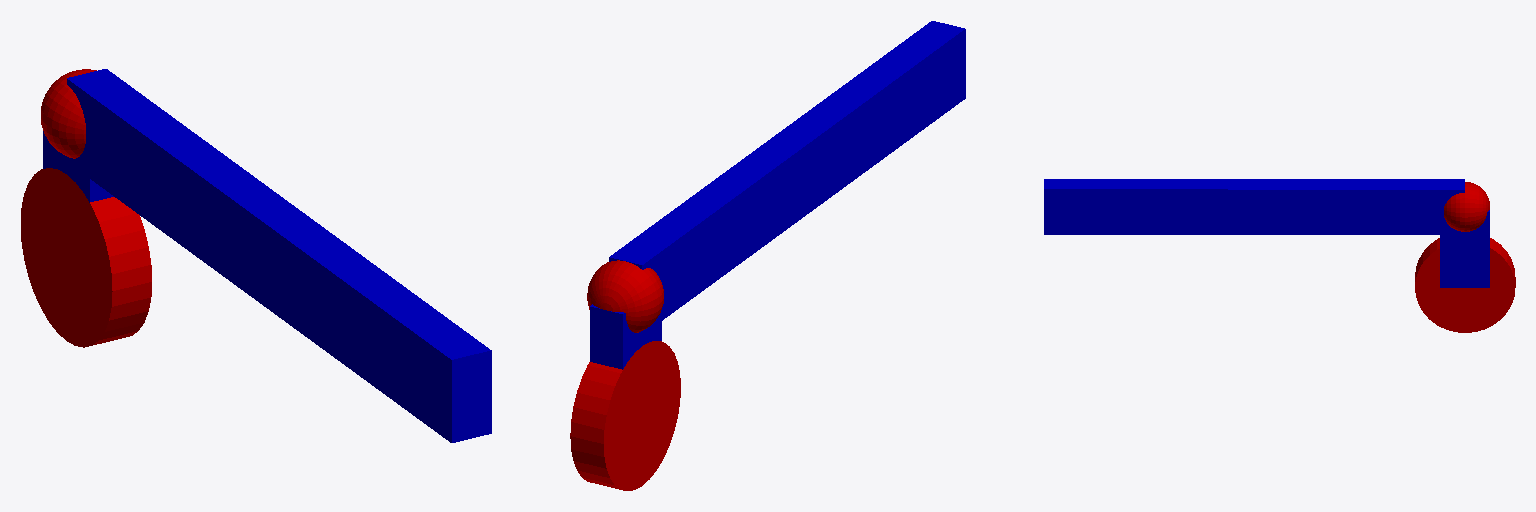
The robot description file, URDF, robot "TwoLinkStruct7814793345":
<?xml version="1.0"?>
<robot  name="TwoLinkStruct7814793345" >
 <material  name="blue" >
  <color  rgba="0 0 0.8 1.0" />
 </material>
 <material  name="red" >
  <color  rgba="0.8 0 0 1.0" />
 </material>
 <link  name="base_link" >
  <visual >
   <origin  rpy="0 1.5707 0"  xyz="0 0 0" />
   <material  name="red" />
   <geometry >
    <cylinder  length="0.05"  radius="0.1" />
   </geometry>
  </visual>
 </link>
 <joint  type="revolute"  name="joint1" >
  <parent  link="base_link" />
  <child  link="link1" />
  <origin  xyz="0 0 0"  rpy="0 0 0" />
  <axis  xyz="1 0 0" />
 </joint>
 <link  name="link1" >
  <inertial >
   <origin  rpy="0 0 0"  xyz="0 0 0.0825555043973568" />
   <mass  value="0.20950739686104472" />
   <inertia  ixy="0.0"  iyy="8.729474869210198e-05"  izz="0.0005196070681196056"  ixz="0.0"  ixx="0.0005196070681196056"  iyz="0.0" />
  </inertial>
  <visual >
   <origin  rpy="0 0 0"  xyz="0 0 0.0825555043973568" />
   <material  name="blue" />
   <geometry >
    <box  size="0.05 0.1 0.1651110087947136" />
   </geometry>
  </visual>
 </link>
 <joint  type="fixed"  name="joint-joint-1" >
  <parent  link="link1" />
  <child  link="joint-link-1" />
  <origin  xyz="0 0 0.1651110087947136"  rpy="1.5707 0 0" />
  <axis  xyz="1 0 0" />
 </joint>
 <link  name="joint-link-1" >
  <inertial >
   <origin  rpy="0 0 0"  xyz="0 0 0" />
   <mass  value="1.3450731457754839" />
   <inertia  ixy="0"  iyy="0"  izz="0"  ixz="0"  ixx="0"  iyz="0" />
  </inertial>
  <visual >
   <origin  rpy="0 0 0"  xyz="0 0 0" />
   <material  name="red" />
   <geometry >
    <sphere  radius="0.05" />
   </geometry>
  </visual>
 </link>
 <joint  type="revolute"  name="joint2" >
  <parent  link="link1" />
  <child  link="link2" />
  <origin  xyz="0 0 0.1651110087947136"  rpy="1.5707 0 0" />
  <axis  xyz="1 0 0" />
 </joint>
 <link  name="link2" >
  <inertial >
   <origin  rpy="0 0 0"  xyz="0 0 0.41832418664607895" />
   <mass  value="2.609658837666099" />
   <inertia  ixy="0.0"  iyy="8.729474869210198e-05"  izz="0.012264571751015814"  ixz="0.0"  ixx="0.012264571751015814"  iyz="0.0" />
  </inertial>
  <visual >
   <origin  rpy="0 0 0"  xyz="0 0 0.41832418664607895" />
   <material  name="blue" />
   <geometry >
    <box  size="0.05 0.1 0.8366483732921579" />
   </geometry>
  </visual>
 </link>
 <joint  type="fixed"  name="eef_joint" >
  <parent  link="link2" />
  <child  link="eef" />
  <origin  xyz="0 0 0.8366483732921579"  rpy="0 0 0" />
 </joint>
 <link  name="eef" >
  <inertial >
   <origin  rpy="0 0 0"  xyz="0 0 0" />
   <mass  value="1" />
   <inertia  ixy="0"  iyy="0"  izz="0"  ixz="0"  ixx="0"  iyz="0" />
  </inertial>
 </link>
 <transmission  name="motor1" >
  <type  xmltext="SimpleTransmission" >
   SimpleTransmission
  </type>
  <actuator  name="motor1" >
   <mechanicalreduction  xmltext="1" >
    1
   </mechanicalreduction>
  </actuator>
  <joint  name="joint1" />
 </transmission>
 <transmission  name="motor2" >
  <type  xmltext="SimpleTransmission" >
   SimpleTransmission
  </type>
  <actuator  name="motor2" >
   <mechanicalreduction  xmltext="1" >
    1
   </mechanicalreduction>
  </actuator>
  <joint  name="joint2" />
 </transmission>
</robot>

<!-- {'carti': array([-0.1 ,  0.14,  0.85]), 'cartd': array([-0.1 ,  0.32,  1.29]), 'tau_mu': 0.8579399831248364, 'b0': 0.30350451117538707, 'Km': 0.5462251058897619, 'k_velocity': 55.5794177551294, 'tau_max_m': 3.9450127016879883, 'omega_max_m': 6569.417543995202, 'gear_ratio': 4.3928412815128475, 'Kp': 40.30648704896924, 'Kd': 4.420757240407456, 'm_m': 1.3450731457754839, 'l1': 0.1651110087947136, 'l2': 0.8366483732921579, 'k1': 8146.963941109424, 'k2': 163704184.9188026, 'k3': 74426435.43738353}-->

--- What the picture shows (computed from the rendered views, not written in the file) ---
The picture shows the robot from 3 angles, left to right: view 1: azimuth 30°, elevation 25°; view 2: azimuth 150°, elevation 25°; view 3: azimuth 270°, elevation 25°; orthographic projection.
Robot: TwoLinkStruct7814793345 — 5 links, 4 joints (2 revolute, 2 fixed); root link base_link; default pose: all joints at 0.
Visible links, largest first — view 1: link2, base_link, joint-link-1, link1; view 2: link2, base_link, joint-link-1, link1; view 3: link2, base_link, link1, joint-link-1.
Boxes of the visible links, <box> form: link2: <box>67,69,491,442</box>; base_link: <box>21,168,151,347</box>; joint-link-1: <box>41,69,96,158</box>; link1: <box>43,131,113,202</box>; link2: <box>609,21,965,334</box>; base_link: <box>570,341,680,490</box>; joint-link-1: <box>587,260,663,332</box>; link1: <box>590,304,661,369</box>; link2: <box>1044,179,1464,234</box>; base_link: <box>1415,238,1515,332</box>; link1: <box>1440,210,1489,287</box>; joint-link-1: <box>1444,182,1489,231</box>.
Bounding box of the posed robot: 0.1 × 0.9367 × 0.3152 m (x, y, z).
Geometry: primitives only (box / cylinder / sphere), no mesh files.
